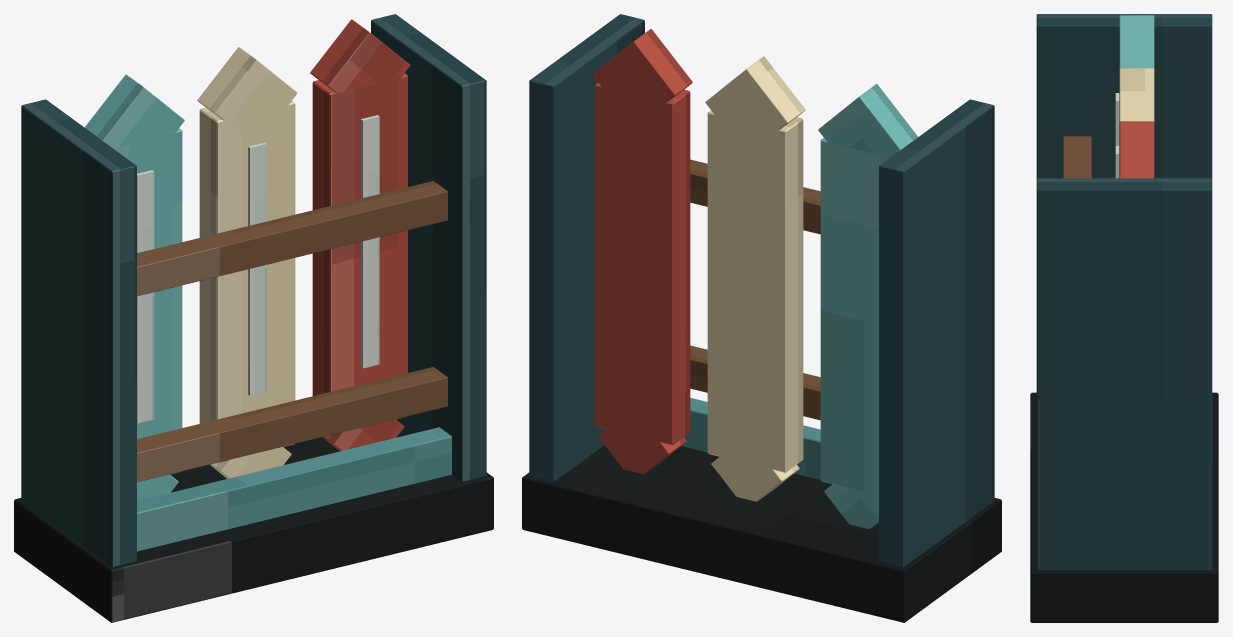
The model's file is surfboard_rack.glb.
3 renders of one model, left to right at view 1: azimuth 30°, elevation 25°; view 2: azimuth 150°, elevation 25°; view 3: azimuth 270°, elevation 25°, orthographic. The views are drawn at different scales.
Parts seen in each view (by area): view 1: RackPostL, RackBase, RackPostR, BoardBody_3, BoardBody_2, FrozenTidelineSign, RackRail_0.45, RackRail_1.08, BoardBody_1, BoardNose_2, BoardNose_1, BoardNose_3 (+6 smaller); view 2: RackPostL, RackBase, BoardBody_2, BoardBody_3, RackPostR, BoardBody_1, BoardNose_2, BoardNose_1, BoardNose_3, BoardTail_2, BoardTail_3, FrozenTidelineSign (+3 smaller); view 3: RackPostR, RackPostL, RackBase, BoardNose_3, BoardNose_1, BoardNose_2, RackRail_1.08.
Part boxes in pixels (x1,y1,x2,y2): RackPostL: (21,99,136,566); RackBase: (14,435,493,622); RackPostR: (371,14,486,481); BoardBody_3: (312,73,407,435); BoardBody_2: (199,101,295,463); FrozenTidelineSign: (137,427,451,551); RackRail_0.45: (137,367,447,482); RackRail_1.08: (137,181,447,296); BoardBody_1: (113,128,182,474); BoardNose_2: (197,47,297,144); BoardNose_1: (84,74,184,171); BoardNose_3: (310,19,410,93); RackPostL: (879,99,994,566); RackBase: (522,445,1001,622); BoardBody_2: (707,110,803,472); BoardBody_3: (595,83,690,445); RackPostR: (529,14,644,481); BoardBody_1: (820,138,889,494); BoardNose_2: (705,56,805,149); BoardNose_1: (818,84,917,173); BoardNose_3: (592,29,692,102); BoardTail_2: (711,436,799,501); BoardTail_3: (598,409,686,474); FrozenTidelineSign: (681,398,820,479); RackPostR: (1036,178,1212,570); RackPostL: (1036,14,1212,178); RackBase: (1030,392,1218,622); BoardNose_3: (1119,121,1154,178); BoardNose_1: (1119,15,1154,68); BoardNose_2: (1119,68,1154,121); RackRail_1.08: (1063,136,1091,178).
Bounding box in the file's own units: 1.36 × 1.64 × 0.6.
1 material, 1 textured.
